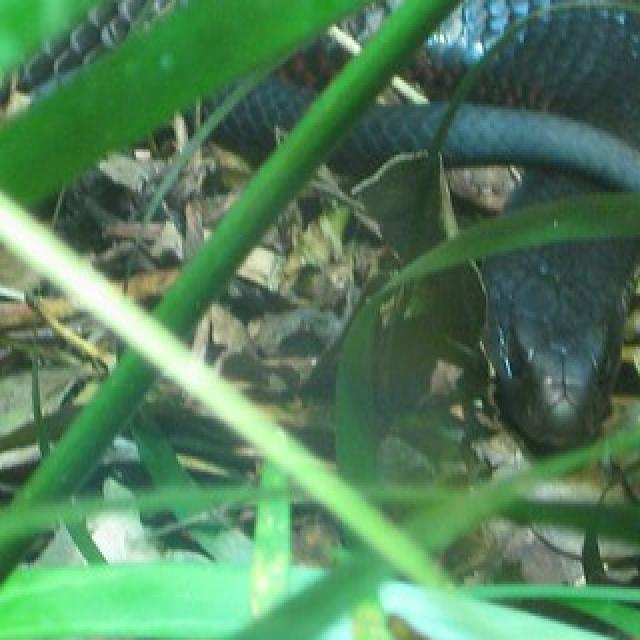Snake: (0, 0, 640, 467)
